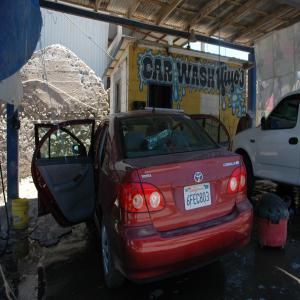Vehicle-registration-plate: (189, 189, 217, 217)
